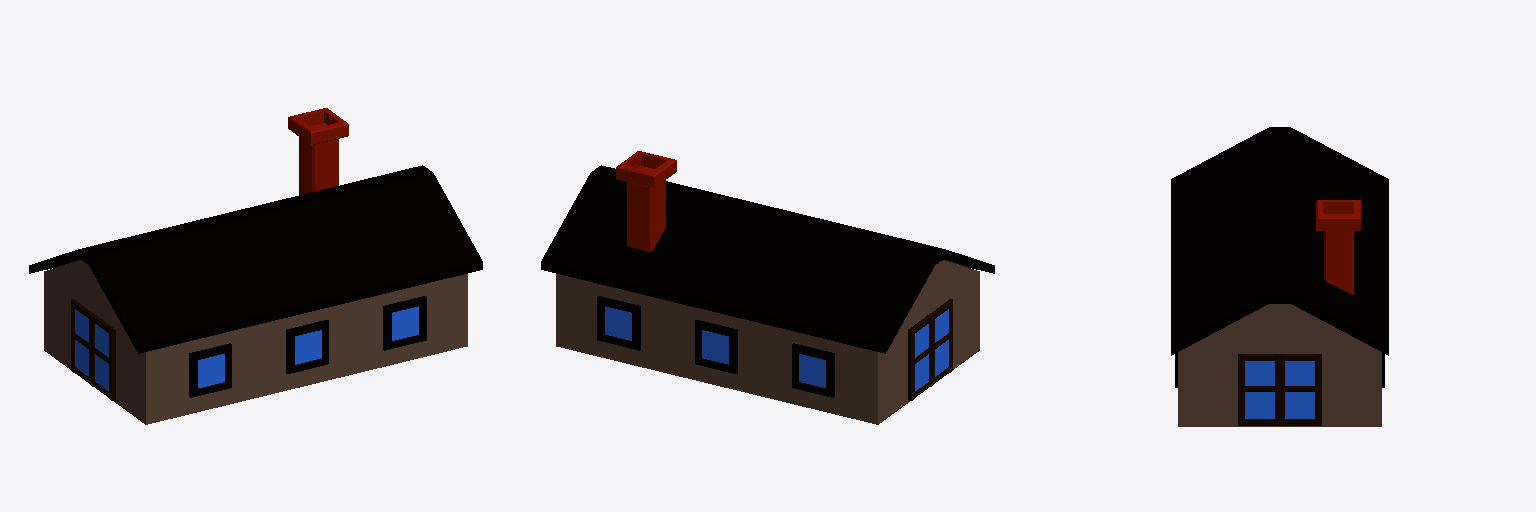
The model's file is Refectory.obj.
The picture shows the model from 3 angles: view 1: azimuth 30°, elevation 25°; view 2: azimuth 150°, elevation 25°; view 3: azimuth 270°, elevation 25°; orthographic projection.
Parts seen in each view (by area): view 1: Refectory_Cube.011; view 2: Refectory_Cube.011; view 3: Refectory_Cube.011.
Part boxes in pixels (x1,y1,x2,y2): Refectory_Cube.011: (29,108,482,424); Refectory_Cube.011: (541,151,994,424); Refectory_Cube.011: (1171,127,1388,426).
Bounding box in the file's own units: 17.74 × 9.08 × 9.74.